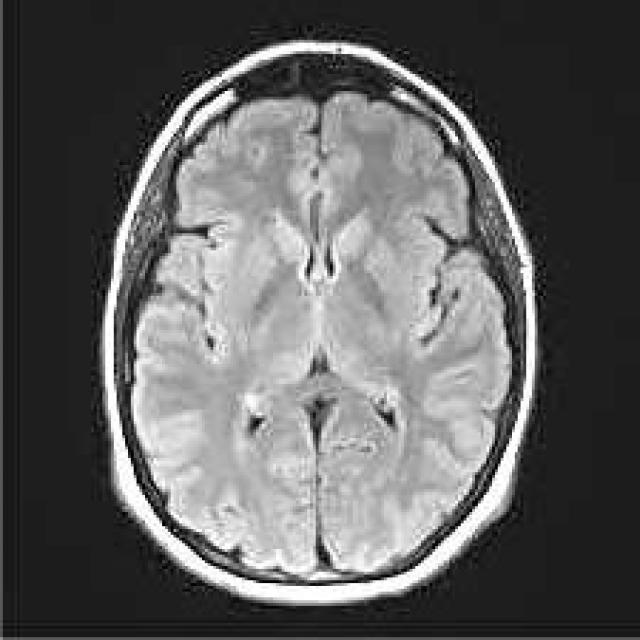No_Tumor: (103, 40, 537, 603)
